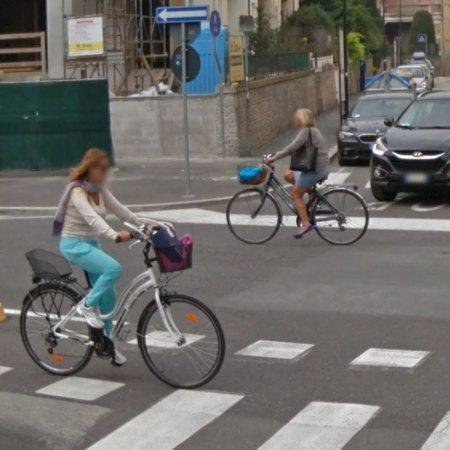crosswalks: (2, 366, 449, 450)
